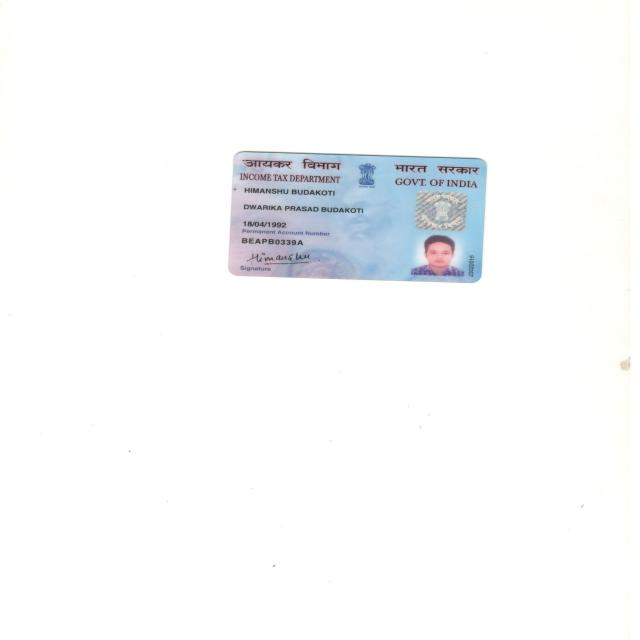pan_card: (225, 150, 488, 280)
